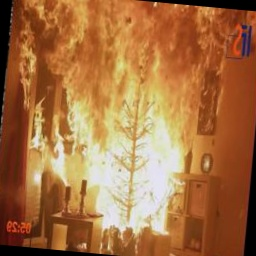fire: (0, 0, 256, 240)
